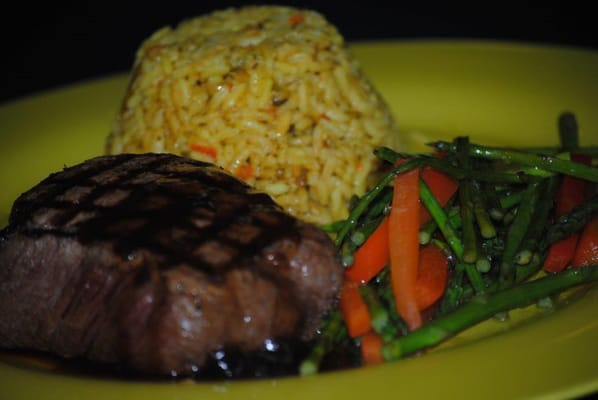pizza: (388, 174, 442, 330), (387, 170, 421, 329), (346, 221, 390, 286), (339, 280, 373, 338), (420, 167, 459, 207)
